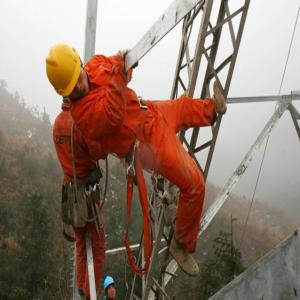yellow: (45, 43, 93, 102)
